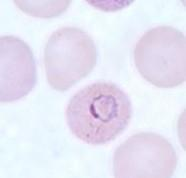Infected: (65, 83, 130, 145)
Uninfected: (44, 26, 99, 90), (133, 26, 186, 88), (112, 134, 181, 178), (0, 37, 38, 100)
